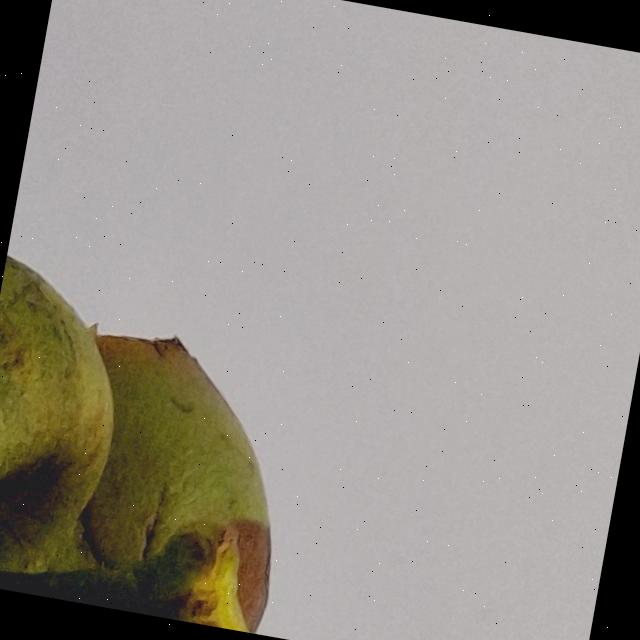mangosteen: (0, 77, 417, 640)
